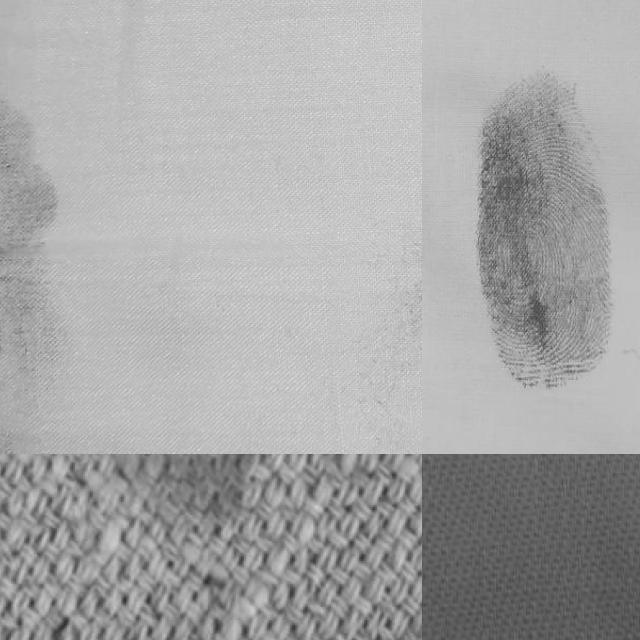Thread_other: (442, 46, 640, 401), (0, 84, 89, 454), (374, 192, 422, 366)
